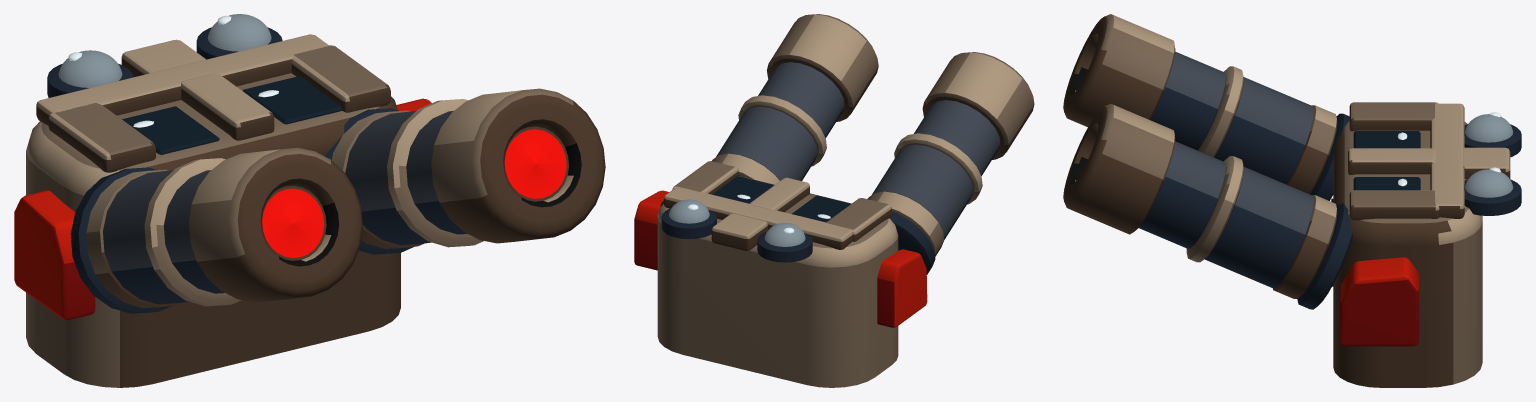
Rendered from tan_launcher_271.glb.
The picture shows the model from 3 angles, left to right: view 1: azimuth 30°, elevation 25°; view 2: azimuth 150°, elevation 25°; view 3: azimuth 270°, elevation 25°; orthographic projection. The views are drawn at different scales.
Visible parts, largest first — view 1: tan_launcher_271; view 2: tan_launcher_271; view 3: tan_launcher_271.
Part boxes in pixels (<box>): tan_launcher_271: <box>14,14,605,387</box>; tan_launcher_271: <box>634,14,1034,387</box>; tan_launcher_271: <box>1063,14,1521,387</box>.
Bounding box in the file's own units: 21.9 × 17.67 × 28.09.
